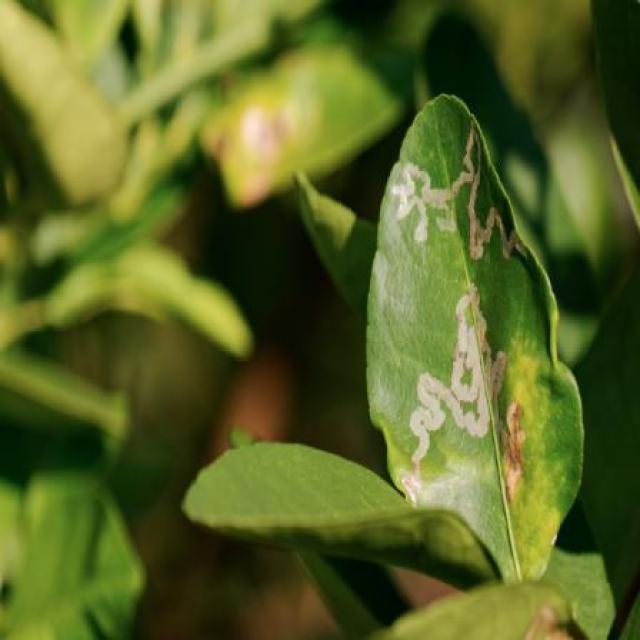Leaf Miner: (360, 89, 584, 581)
